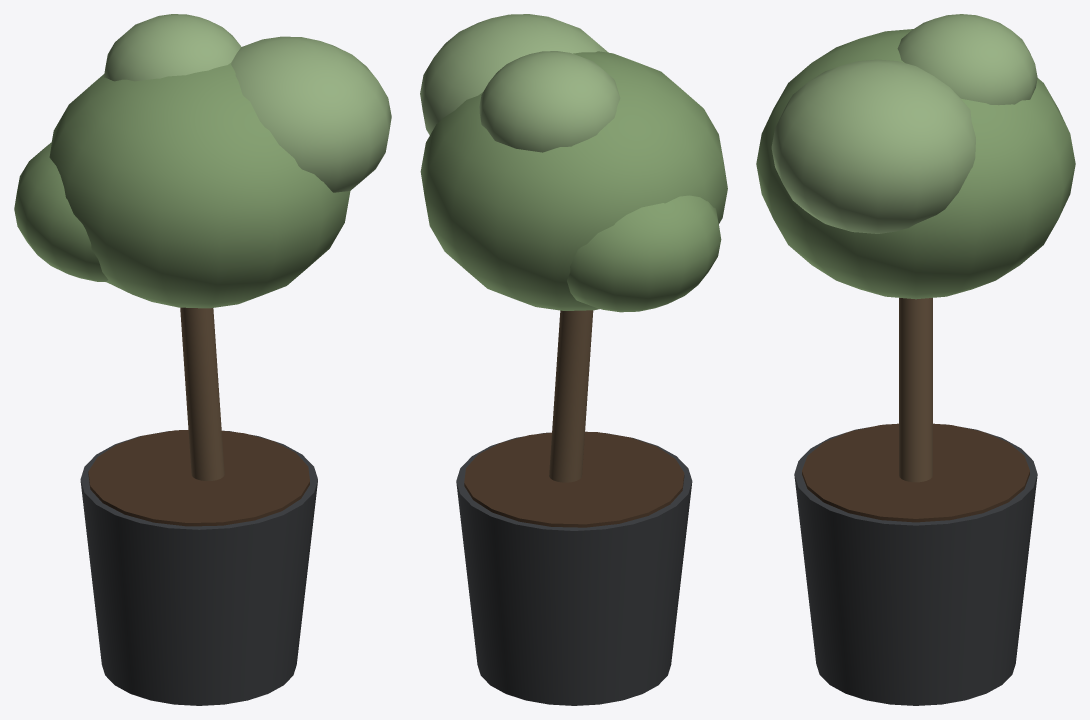
3 renders of one model, left to right at view 1: azimuth 30°, elevation 25°; view 2: azimuth 150°, elevation 25°; view 3: azimuth 270°, elevation 25°, orthographic. The views are drawn at different scales.
Visible parts, largest first — view 1: sphere-leaf2 (×2), taper-primary, sphere-olive (×2), cyl-soil, cyl-trunk; view 2: sphere-leaf2 (×2), taper-primary, sphere-olive (×2), cyl-soil, cyl-trunk; view 3: taper-primary, sphere-olive (×2), sphere-leaf2, cyl-soil, cyl-trunk.
Boxes of the visible parts, x1,y1,x2,y2 form: sphere-leaf2 (×2): (14, 63, 350, 308); taper-primary: (80, 430, 317, 705); sphere-olive (×2): (104, 14, 391, 192); cyl-soil: (88, 430, 309, 526); cyl-trunk: (180, 307, 224, 481); sphere-leaf2 (×2): (420, 51, 727, 312); taper-primary: (456, 432, 692, 705); sphere-olive (×2): (420, 14, 620, 152); cyl-soil: (464, 431, 684, 527); cyl-trunk: (549, 310, 593, 482); taper-primary: (794, 424, 1037, 705); sphere-olive (×2): (771, 14, 1037, 233); sphere-leaf2: (756, 29, 1075, 299); cyl-soil: (802, 423, 1029, 522); cyl-trunk: (899, 298, 932, 482).
Bounding box in the file's own units: 0.98 × 1.86 × 0.84.
